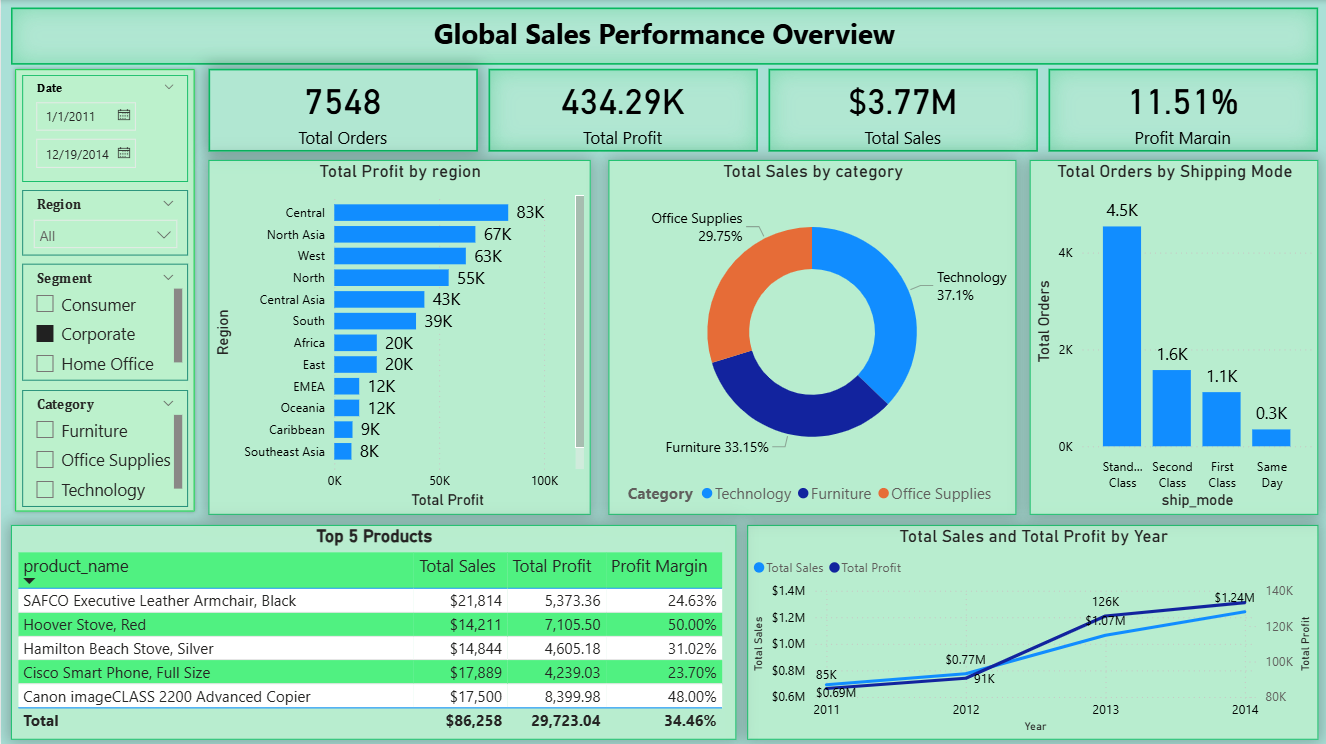

The page's visual inventory and layout, read from the dashboard file:
{"tool":"powerbi","page":{"name":"Page 1","canvas":[1280,720],"ordinal":0},"visuals":[{"type":"shape","box":[10,62.5,181.2,435],"z":0},{"type":"textbox","box":[10,7.3,1261.8,55.5],"z":1000},{"type":"card","fields":{"Values":["gold fact_sales.Total Orders"]},"box":[200,66.2,260,80],"z":2000},{"type":"card","fields":{"Values":["gold fact_sales.Total Profit"]},"box":[470.4,66.2,260,80],"z":3000},{"type":"card","fields":{"Values":["gold fact_sales.Total Sales"]},"box":[740.8,66.2,260,80],"z":4000},{"type":"card","fields":{"Values":["gold fact_sales.Profit Margin"]},"box":[1011.2,66.2,260,80],"z":5000},{"type":"lineChart","fields":{"Y":["gold fact_sales.Total Sales"],"Category":["gold fact_sales.order_date.Variation.Date Hierarchy.Year","gold fact_sales.order_date.Variation.Date Hierarchy.Month"],"Y2":["gold fact_sales.Total Profit"]},"box":[720,507.1,551.4,207.1],"z":6000},{"type":"clusteredBarChart","fields":{"Category":["gold dim_customers.region"],"Y":["gold fact_sales.Total Profit"]},"box":[200,155,368.8,342.5],"z":7000},{"type":"donutChart","fields":{"Category":["gold dim_products.category"],"Y":["gold fact_sales.Total Sales"]},"box":[586.2,155,393.8,342.5],"z":8000},{"type":"tableEx","title":"Top 5 Products","fields":{"Values":["gold dim_products.product_name","gold fact_sales.Total Sales","gold fact_sales.Total Profit","gold fact_sales.Profit Margin"]},"box":[10,507.1,700,207.1],"z":9000},{"type":"slicer","fields":{"Values":["gold fact_sales.order_date"]},"box":[20,72.9,160,102.9],"z":10000},{"type":"slicer","fields":{"Values":["gold dim_customers.region"]},"box":[21,183,160,63],"z":11000},{"type":"slicer","fields":{"Values":["gold dim_customers.segment"]},"box":[21,254,160,113],"z":12000},{"type":"slicer","fields":{"Values":["gold dim_products.category"]},"box":[21,376,160,113],"z":13000},{"type":"clusteredColumnChart","title":"Total Orders by Shipping Mode","fields":{"Category":["gold fact_sales.ship_mode"],"Y":["gold fact_sales.Total Orders"]},"box":[992.5,155,278.8,342.5],"z":14000}]}

Visuals, with their boxes in screenshot pixels (x1, y1, x2, y2), scaled from the page's 1280x720 canvas onto the 1326x744 screenshot:
shape: 10 65 198 514
textbox: 10 8 1318 65
card - gold fact_sales.Total Orders: 207 68 477 151
card - gold fact_sales.Total Profit: 487 68 757 151
card - gold fact_sales.Total Sales: 767 68 1037 151
card - gold fact_sales.Profit Margin: 1048 68 1317 151
lineChart - gold fact_sales.Total Sales x gold fact_sales.order_date.Variation.Date Hierarchy.Year: 746 524 1317 738
clusteredBarChart - gold dim_customers.region x gold fact_sales.Total Profit: 207 160 589 514
donutChart - gold dim_products.category x gold fact_sales.Total Sales: 607 160 1015 514
"Top 5 Products" tableEx: 10 524 736 738
slicer - gold fact_sales.order_date: 21 75 186 182
slicer - gold dim_customers.region: 22 189 188 254
slicer - gold dim_customers.segment: 22 262 188 379
slicer - gold dim_products.category: 22 389 188 505
"Total Orders by Shipping Mode" clusteredColumnChart: 1028 160 1317 514
